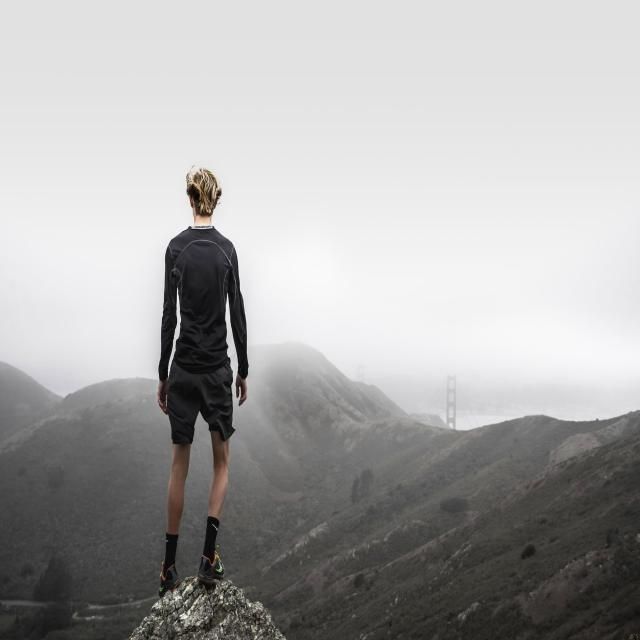adult: (158, 160, 252, 593)
